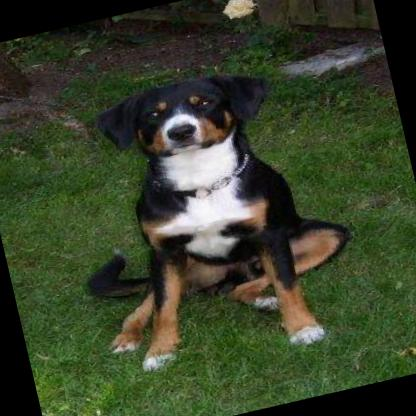EntleBucher: (38, 45, 376, 400)
